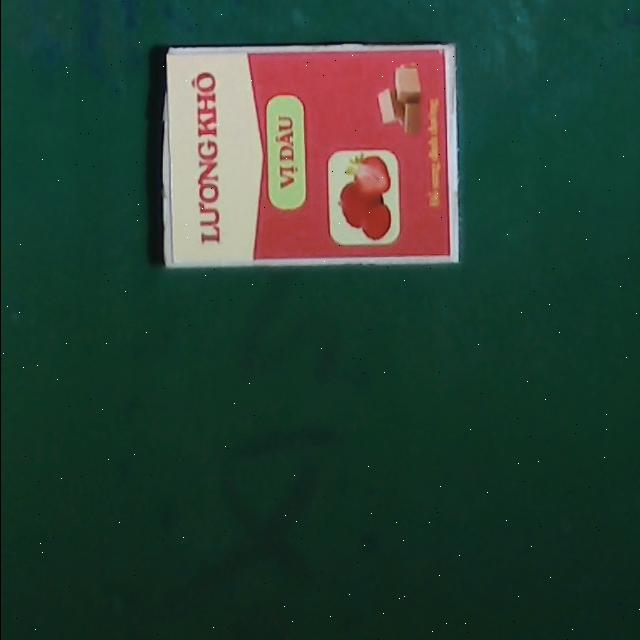dau: (159, 42, 457, 268)
